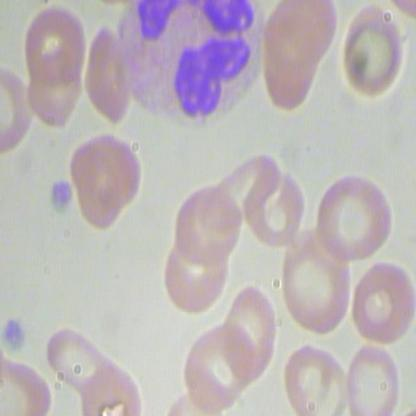Platelets: (46, 179, 77, 221), (1, 313, 31, 355)
RBC: (315, 169, 398, 263), (340, 1, 415, 103), (166, 173, 244, 266), (62, 136, 148, 211), (341, 259, 414, 343), (220, 282, 279, 385), (21, 4, 86, 85), (86, 19, 131, 126)
WBC: (119, 1, 276, 133)
